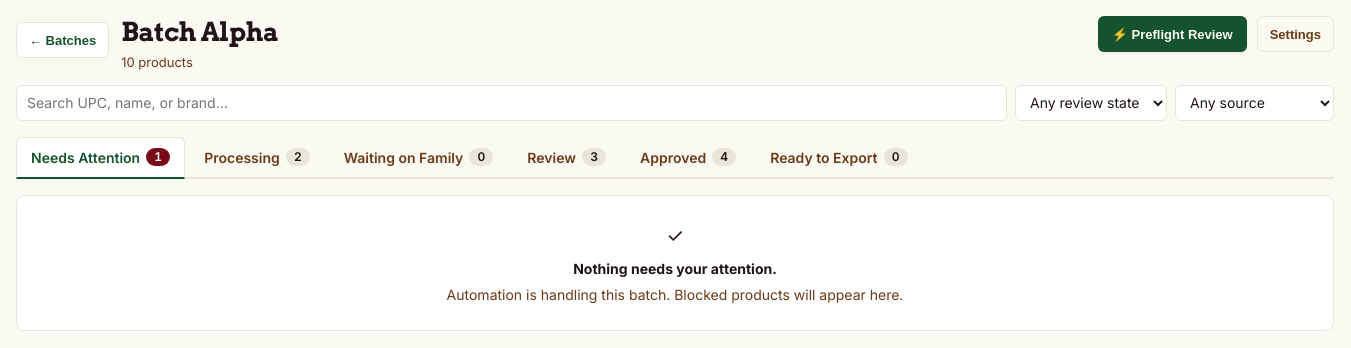
Test case: Onboarding Batch URL Persistence › clears batch param from URL when Back to Batches is clicked
Click the button with aria-label "Back to batches". click: (63, 40)
box: [16, 22, 109, 58]
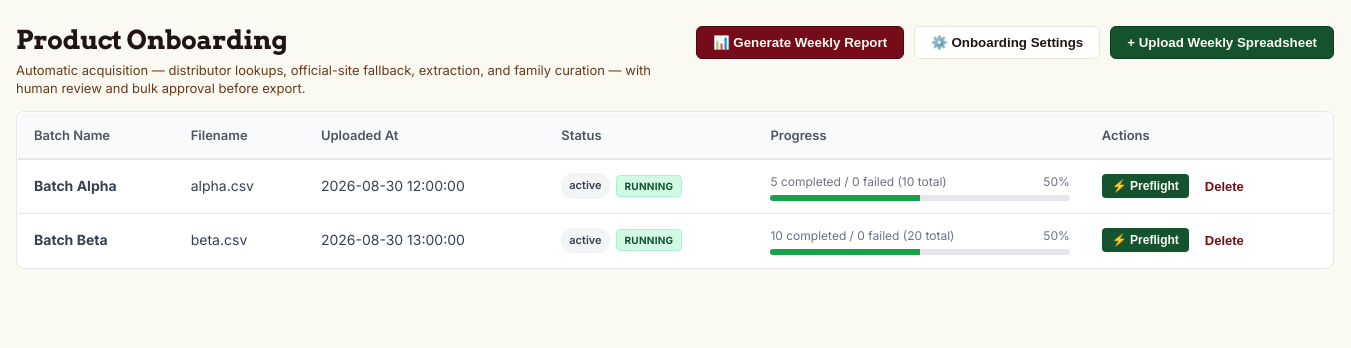
Expected: the text "Product Onboarding" is shown, [16, 24, 287, 56]
